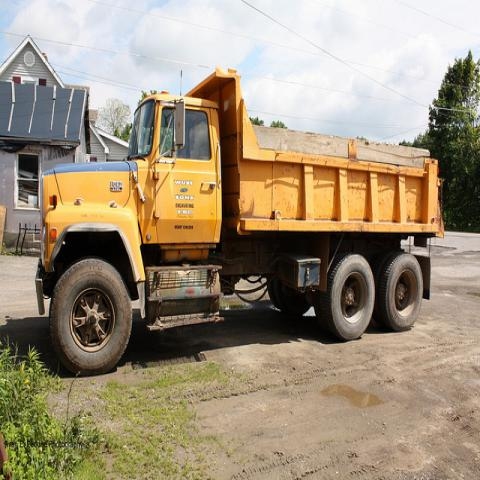truck: (35, 65, 444, 377)
